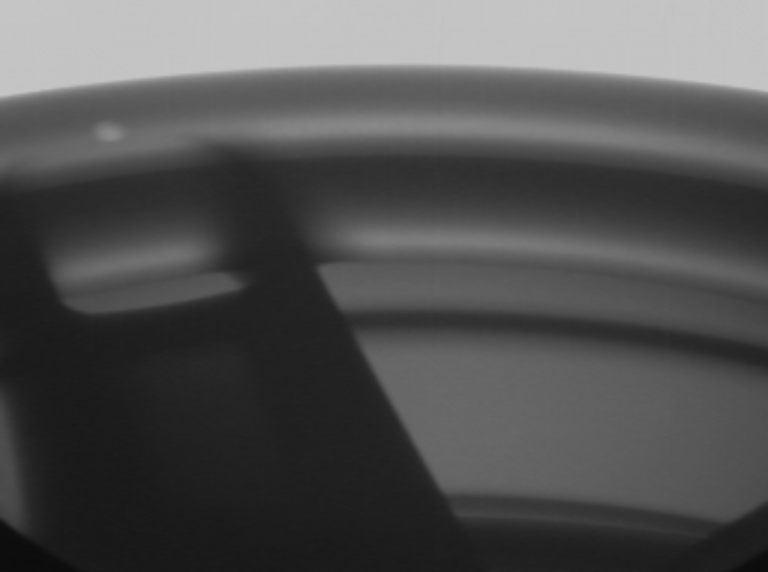defect: (90, 114, 132, 152)
